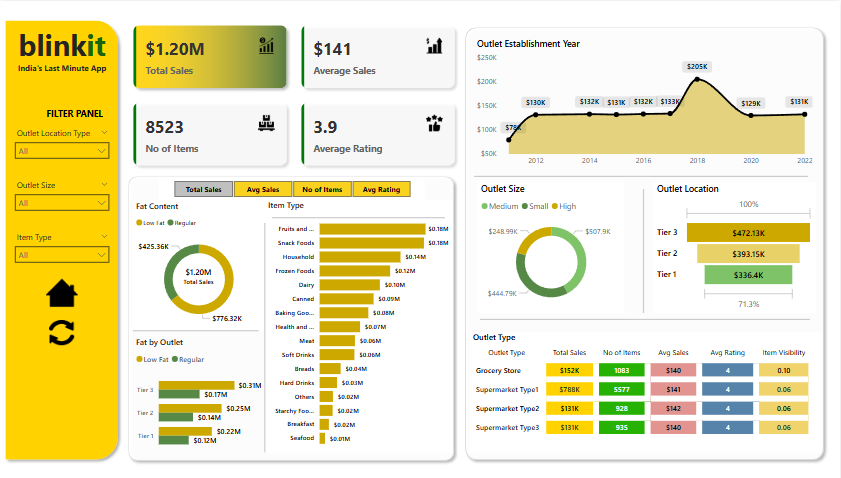

The page's visual inventory and layout, read from the dashboard file:
{"tool":"powerbi","page":{"name":"Page 1","canvas":[1400,800],"ordinal":0},"visuals":[{"type":"shape","box":[0,24.1,205.6,750.2],"z":0},{"type":"textbox","box":[20.9,35.3,163.9,75.5],"z":1000},{"type":"textbox","box":[14.5,98,176.7,27.3],"z":2000},{"type":"cardVisual","fields":{"Data":["Key Metrics.Total Sales","Key Metrics.Average Sales","Key Metrics.No of Items","Key Metrics.Average Rating"]},"box":[205.6,24.1,570.3,269.9],"z":3000},{"type":"shape","box":[205.6,282.7,560.6,491.6],"z":4000},{"type":"donutChart","title":"Fat Content","fields":{"Y":["Key Metrics.Total Sales"],"Category":["BlinkIT Grocery Data.Item Fat Content"]},"box":[221.4,332.9,220,217.1],"z":5000},{"type":"slicer","fields":{"Values":["Metrics.Metrics"]},"box":[265.1,294,443.4,40.2],"z":6000},{"type":"cardVisual","fields":{"Data":["Key Metrics.Total Sales"]},"box":[289.2,422.5,85.1,73.9],"z":7000},{"type":"clusteredBarChart","title":"Fat by Outlet","fields":{"Y":["Key Metrics.Total Sales"],"Category":["BlinkIT Grocery Data.Outlet Location Type"],"Series":["BlinkIT Grocery Data.Item Fat Content"]},"box":[221.4,560,220,201.4],"z":8000},{"type":"barChart","title":"Item Type","fields":{"Y":["Key Metrics.Total Sales"],"Category":["BlinkIT Grocery Data.Item Type"]},"box":[441.8,330.9,311.6,420.9],"z":9000},{"type":"shape","box":[221.7,520.5,208.8,59.4],"z":10000},{"type":"shape","box":[409.6,369.5,62.7,382.3],"z":11000},{"type":"shape","box":[453,330.9,287.6,59.4],"z":12000},{"type":"shape","box":[766.3,35.3,615.3,739],"z":13000},{"type":"areaChart","title":"Outlet Establishment Year","fields":{"Y":["Key Metrics.Total Sales"],"Category":["BlinkIT Grocery Data.Outlet Establishment Year"]},"box":[790,60,570,224.3],"z":14000},{"type":"donutChart","title":"Outlet Size","fields":{"Y":["Key Metrics.Total Sales"],"Category":["BlinkIT Grocery Data.Outlet Size"]},"box":[797.1,301.4,244.3,218.6],"z":15000},{"type":"funnel","title":"Outlet Location","fields":{"Y":["Key Metrics.Total Sales"],"Category":["BlinkIT Grocery Data.Outlet Location Type"]},"box":[1090,301.4,270,218.6],"z":16000},{"type":"shape","box":[790,263.3,556.7,58.3],"z":17000},{"type":"shape","box":[1041.7,313.3,61.7,206.7],"z":18000},{"type":"shape","box":[800,501.7,550,58.3],"z":19000},{"type":"pivotTable","title":"Outlet Type","fields":{"Rows":["BlinkIT Grocery Data.Outlet Type"],"Values":["Key Metrics.Total Sales","Key Metrics.No of Items","Key Metrics.Avg Sales","Key Metrics.Avg Rating","Avg(BlinkIT Grocery Data.Item Visibility)"]},"box":[782.9,551.4,585.7,201.4],"z":20000},{"type":"slicer","fields":{"Values":["BlinkIT Grocery Data.Outlet Location Type"]},"box":[15,206.7,176.7,76.7],"z":21000},{"type":"slicer","fields":{"Values":["BlinkIT Grocery Data.Outlet Size"]},"box":[15,293.3,176.7,73.3],"z":22000},{"type":"slicer","fields":{"Values":["BlinkIT Grocery Data.Item Type"]},"box":[15,380,176.7,73.3],"z":23000},{"type":"textbox","box":[62.7,171.9,122.1,36.9],"z":24000},{"type":"actionButton","box":[76.7,460,53.3,53.3],"z":25000},{"type":"actionButton","box":[81.7,531.7,41.7,41.7],"z":26000}]}

Visuals, with their boxes in screenshot pixels (x1, y1, x2, y2), scaled from the page's 1400x800 canvas onto the 841x478 screenshot:
shape: {"x1": 0, "y1": 14, "x2": 124, "y2": 463}
textbox: {"x1": 13, "y1": 21, "x2": 111, "y2": 66}
textbox: {"x1": 9, "y1": 59, "x2": 115, "y2": 75}
cardVisual - Key Metrics.Total Sales x Key Metrics.Average Sales: {"x1": 124, "y1": 14, "x2": 466, "y2": 176}
shape: {"x1": 124, "y1": 169, "x2": 460, "y2": 463}
"Fat Content" donutChart: {"x1": 133, "y1": 199, "x2": 265, "y2": 329}
slicer - Metrics.Metrics: {"x1": 159, "y1": 176, "x2": 426, "y2": 200}
cardVisual - Key Metrics.Total Sales: {"x1": 174, "y1": 252, "x2": 225, "y2": 297}
"Fat by Outlet" clusteredBarChart: {"x1": 133, "y1": 335, "x2": 265, "y2": 455}
"Item Type" barChart: {"x1": 265, "y1": 198, "x2": 453, "y2": 449}
shape: {"x1": 133, "y1": 311, "x2": 259, "y2": 346}
shape: {"x1": 246, "y1": 221, "x2": 284, "y2": 449}
shape: {"x1": 272, "y1": 198, "x2": 445, "y2": 233}
shape: {"x1": 460, "y1": 21, "x2": 830, "y2": 463}
"Outlet Establishment Year" areaChart: {"x1": 475, "y1": 36, "x2": 817, "y2": 170}
"Outlet Size" donutChart: {"x1": 479, "y1": 180, "x2": 626, "y2": 311}
"Outlet Location" funnel: {"x1": 655, "y1": 180, "x2": 817, "y2": 311}
shape: {"x1": 475, "y1": 157, "x2": 809, "y2": 192}
shape: {"x1": 626, "y1": 187, "x2": 663, "y2": 311}
shape: {"x1": 481, "y1": 300, "x2": 811, "y2": 335}
"Outlet Type" pivotTable: {"x1": 470, "y1": 329, "x2": 822, "y2": 450}
slicer - BlinkIT Grocery Data.Outlet Location Type: {"x1": 9, "y1": 124, "x2": 115, "y2": 169}
slicer - BlinkIT Grocery Data.Outlet Size: {"x1": 9, "y1": 175, "x2": 115, "y2": 219}
slicer - BlinkIT Grocery Data.Item Type: {"x1": 9, "y1": 227, "x2": 115, "y2": 271}
textbox: {"x1": 38, "y1": 103, "x2": 111, "y2": 125}
actionButton: {"x1": 46, "y1": 275, "x2": 78, "y2": 307}
actionButton: {"x1": 49, "y1": 318, "x2": 74, "y2": 343}
